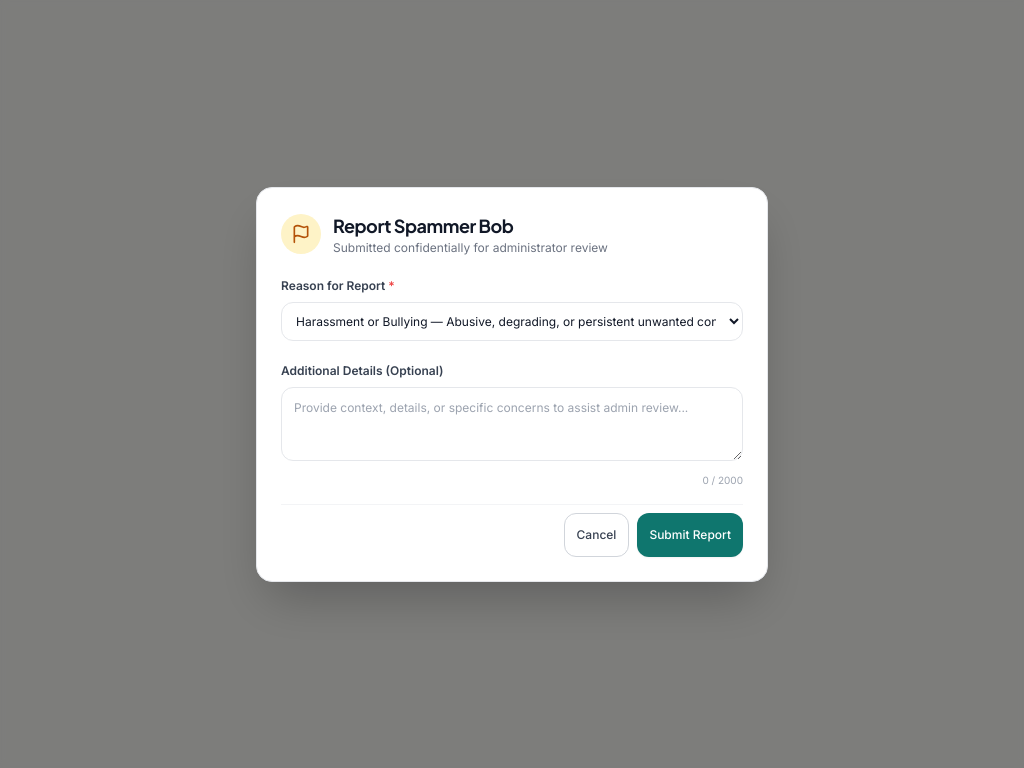
Scenario: Phase 11: Real Safety, Trust, Blocking, Reporting & Moderation › ReportModal › submits report with selected reason and optional details
The image size is (1024, 768).
Note: Select Spam from combobox
Select "Spam or Advertising — Unsolicited promotional messages or automated bots" in the dropdown. click: [512, 321]
box: [281,302,743,340]
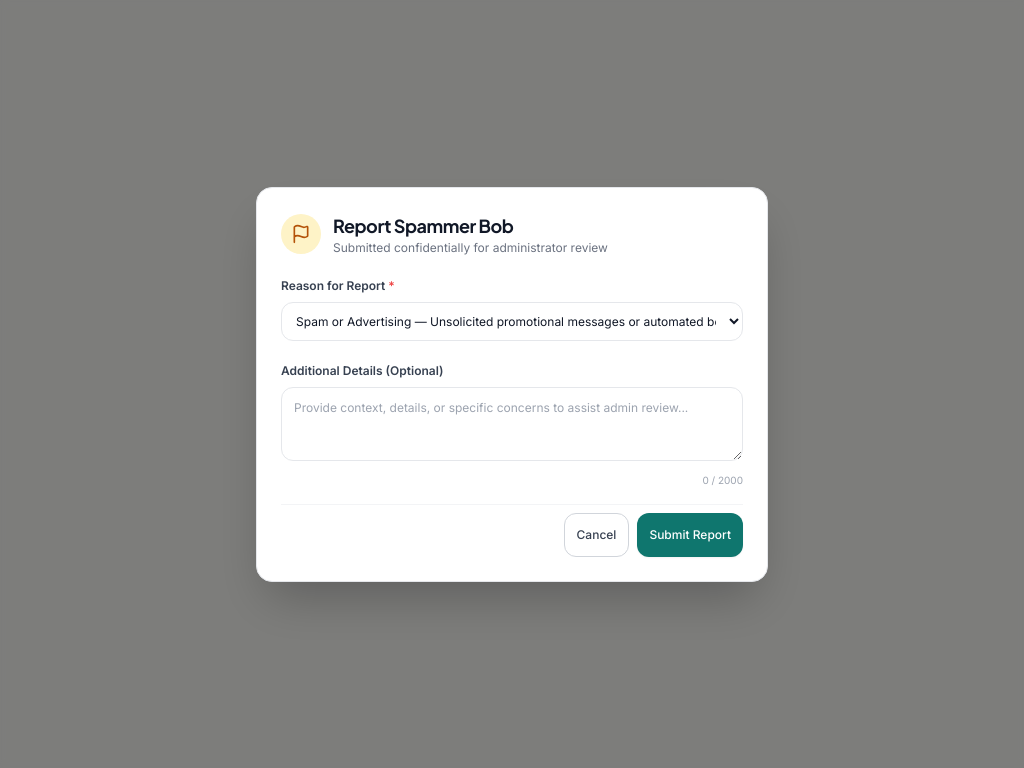
Note: Enter details
Replace the text in the text box with placeholder "Provide context, details" with "Sending repeated commercial solicitations". click: [512, 424]
box: [281,386,743,460]
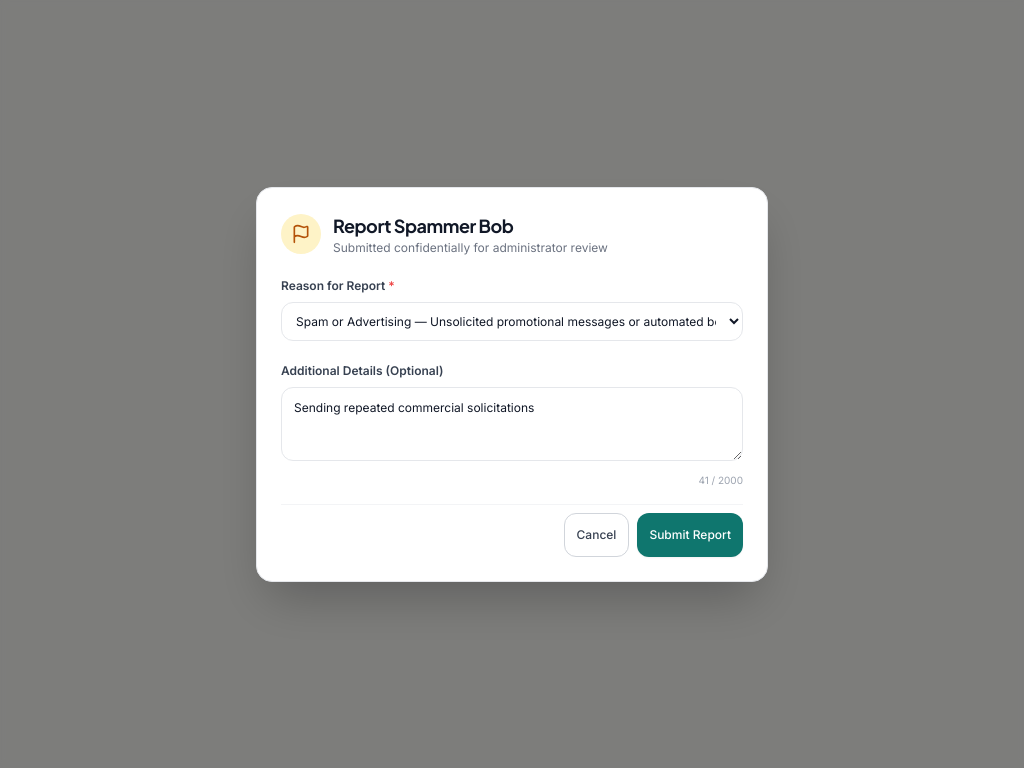
Click the button "Submit Report". click: [690, 534]
box: [637,512,743,556]
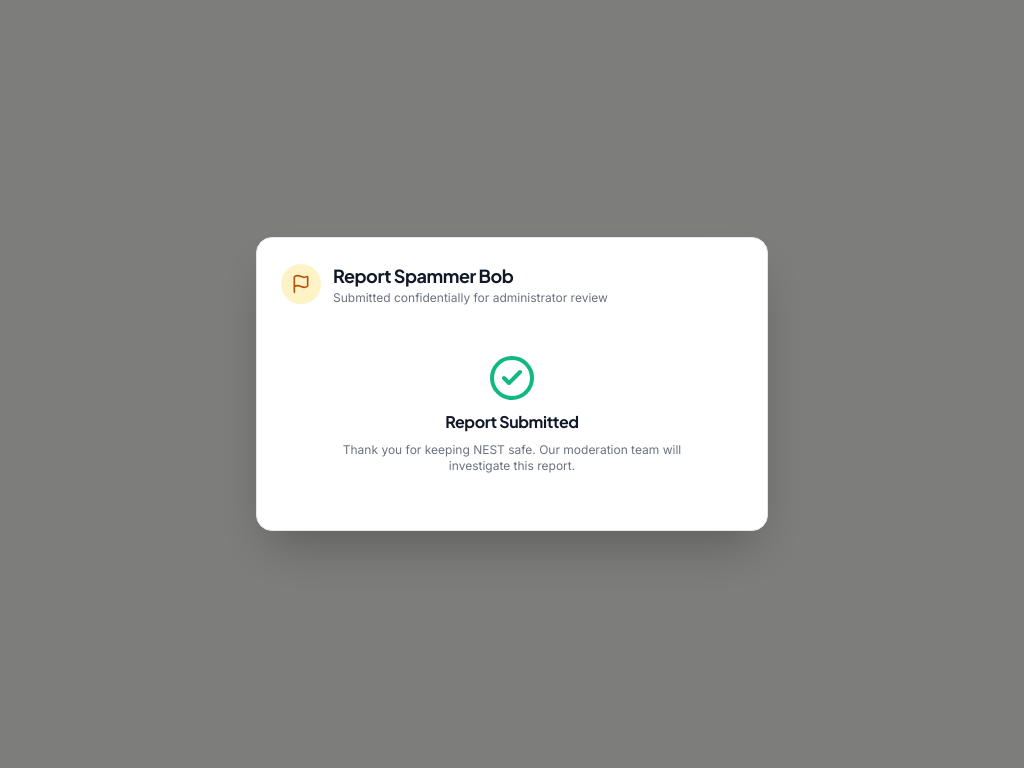
Expected: the heading "Report Submitted" is shown, [445,411,579,432]
